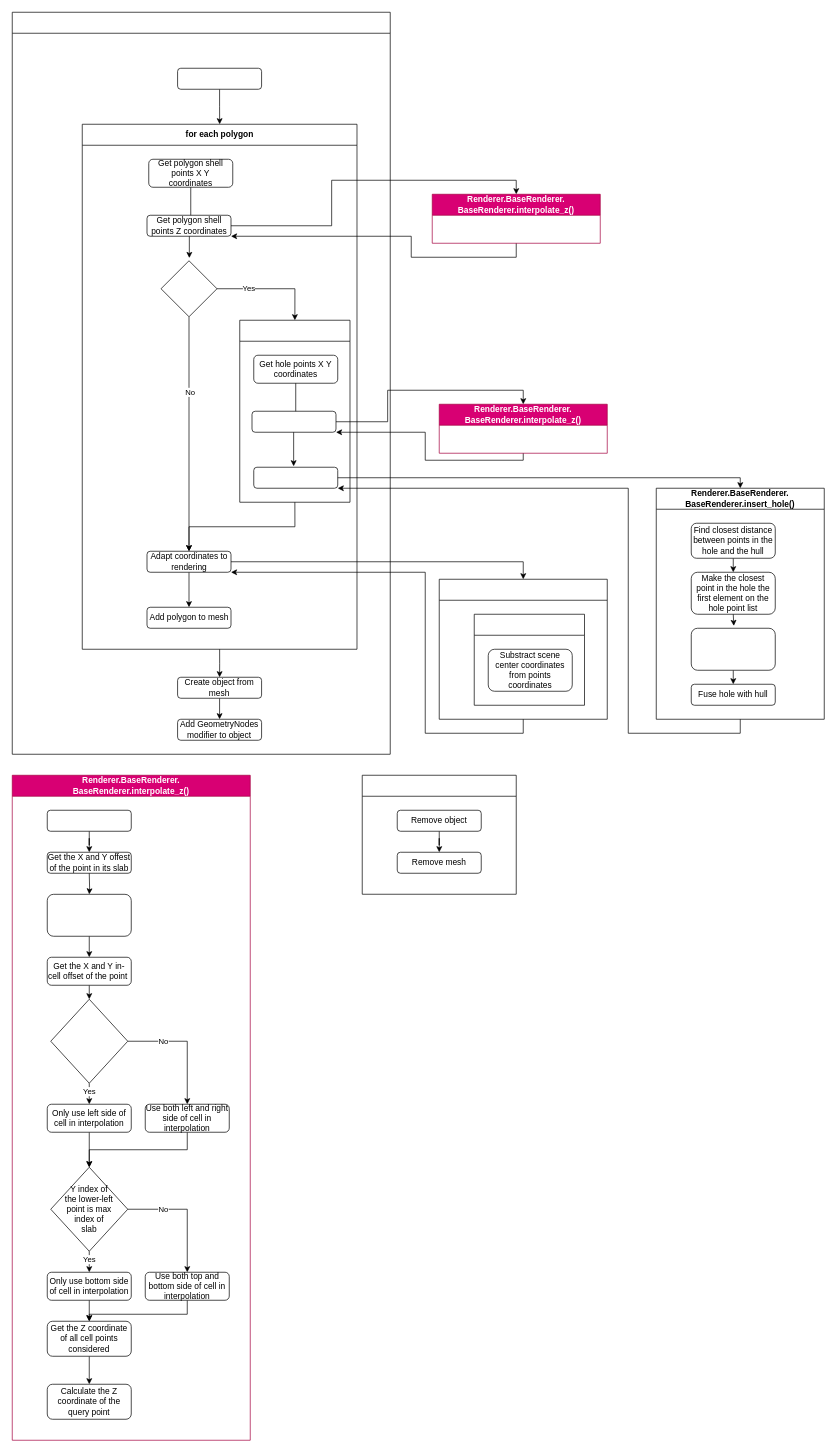
Image size: 837x1453. Some labels were removed from this diagram. The shapes that lost their labels are listed below. From the top down, each one's box as (x1, y1, x2, y2) in pixels, then its label:
(177, 68, 262, 89): Create mesh
(160, 260, 217, 317): polygon has holes
(12, 12, 390, 754): Renderer.BaseRenderer.BaseRenderer.render()
(251, 411, 336, 432): Get hole points Z coordinates
(239, 320, 350, 502): for each hole
(253, 467, 338, 488): Insert hole points inside polygon
(439, 579, 607, 719): Renderer.BaseRenderer. BaseRenderer.adapt_coords()
(474, 614, 584, 705): for each point
(691, 628, 775, 670): Split the hull into two parts at the closest point of the hull
(47, 810, 131, 831): Find terrain slab the point is in
(362, 775, 516, 894): Renderer.BaseRenderer. BaseRenderer.clear_object()
(47, 894, 131, 936): Get the X and Y index of the lower-left corner of the point's cell in the slab
(50, 999, 128, 1083): X index of the lower-left point is max index of slab
